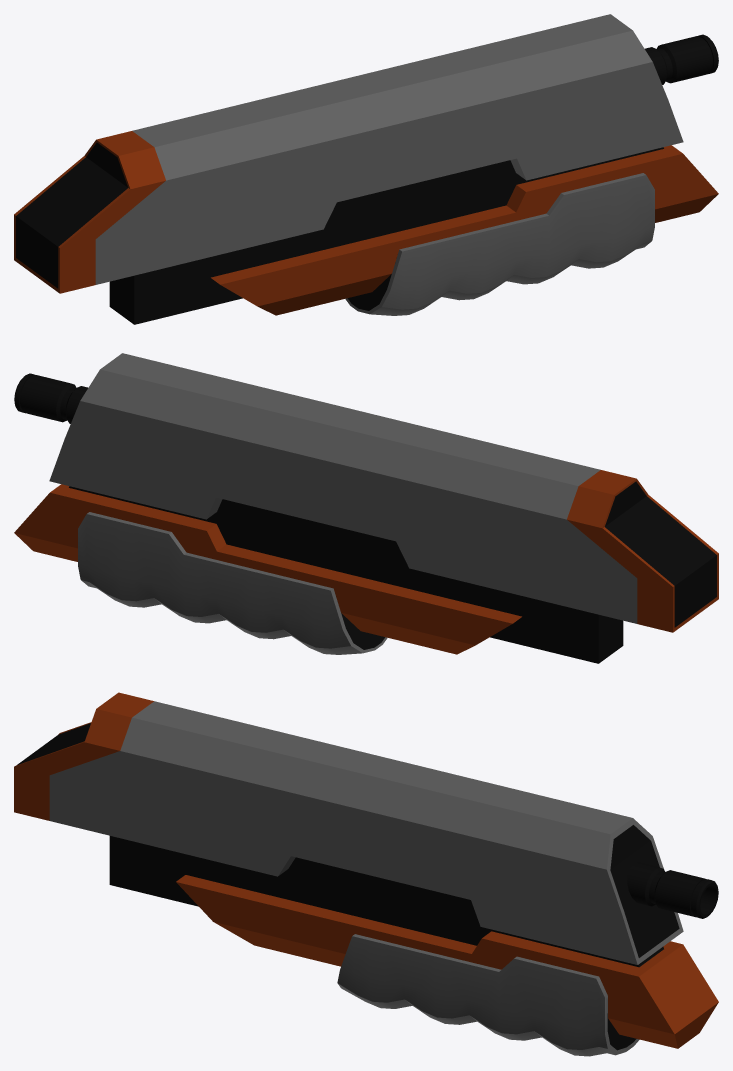
The model's file is Body_AR4.obj.
The picture shows the model from 3 angles, top to bottom: view 1: azimuth 30°, elevation 25°; view 2: azimuth 150°, elevation 25°; view 3: azimuth 330°, elevation 25°; orthographic projection.
Parts seen in each view (by area): view 1: Body_AR4_Cube.021; view 2: Body_AR4_Cube.021; view 3: Body_AR4_Cube.021.
Boxes of the visible parts, x1,y1,x2,y2 form: Body_AR4_Cube.021: (14, 14, 718, 324); Body_AR4_Cube.021: (14, 353, 718, 663); Body_AR4_Cube.021: (14, 692, 718, 1056).
Bounding box in the file's own units: 0.9739 × 0.3202 × 0.1258.
